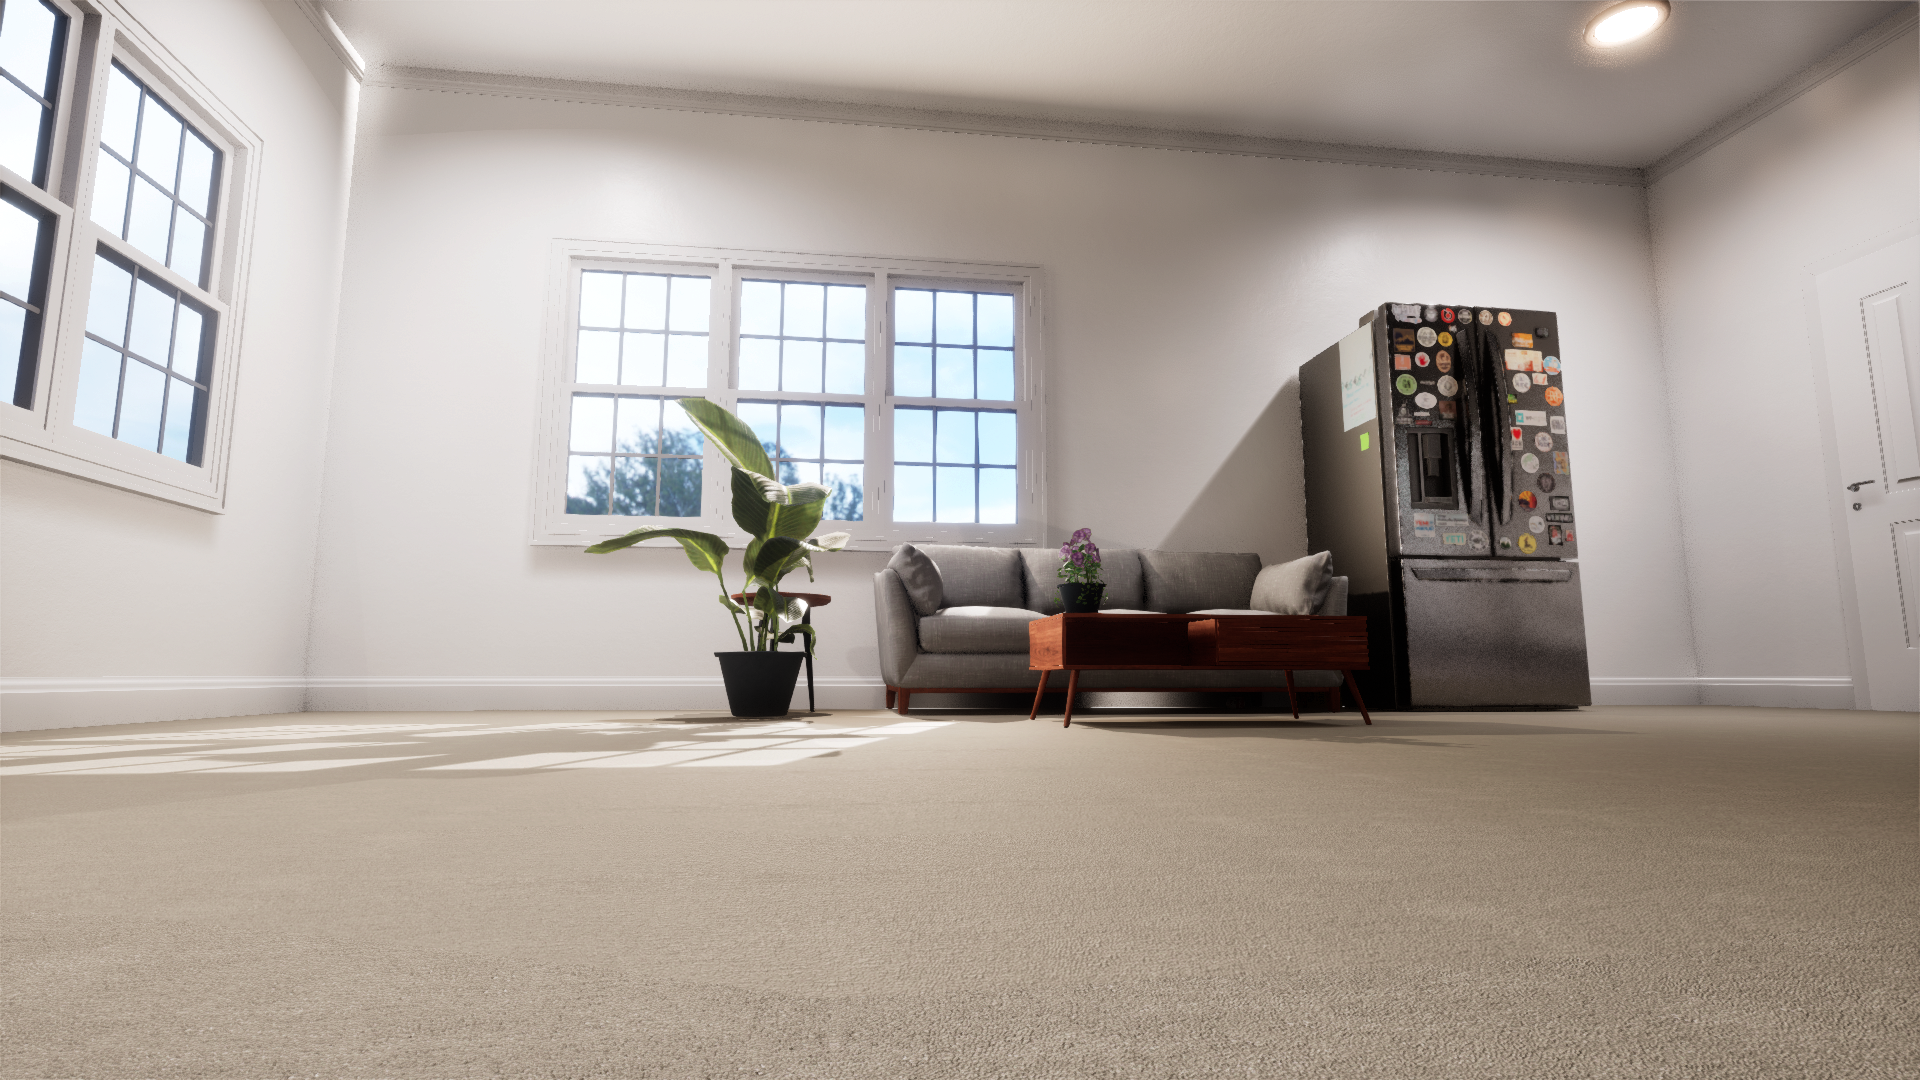cheerios: (1295, 686, 1342, 709)
soup: (1226, 696, 1245, 709)
